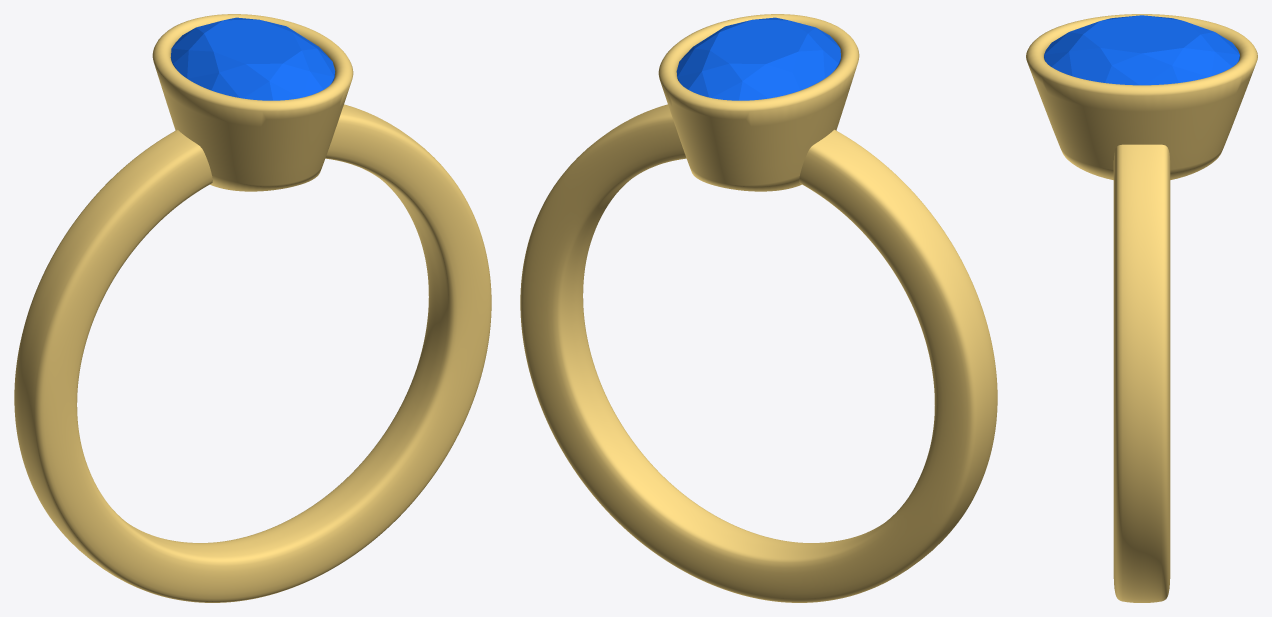
The model's file is bluesapphire-oval-yellowgold-bezelset-straightband-nosidestones.glb.
3 views of the same model, side by side, from view 1: azimuth 30°, elevation 25°; view 2: azimuth 150°, elevation 25°; view 3: azimuth 270°, elevation 25° (orthographic).
Visible parts, largest first — view 1: metal, stone; view 2: metal, stone; view 3: metal, stone.
Part boxes in pixels (x1,y1,x2,y2): metal: (14, 14, 491, 602); stone: (170, 17, 335, 100); metal: (520, 14, 997, 602); stone: (676, 17, 840, 100); metal: (1026, 14, 1257, 602); stone: (1044, 15, 1239, 85).
Size of the model in its own units: 20.5 by 23.41 by 9.04.
